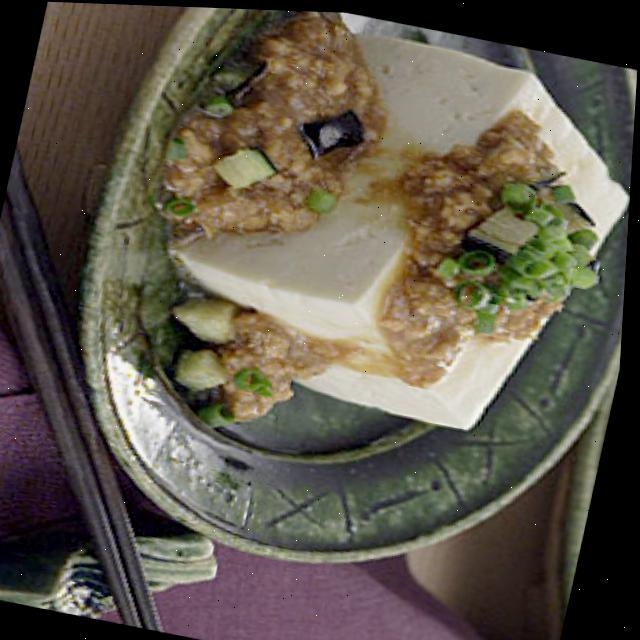豆腐料理: (115, 4, 640, 494)
